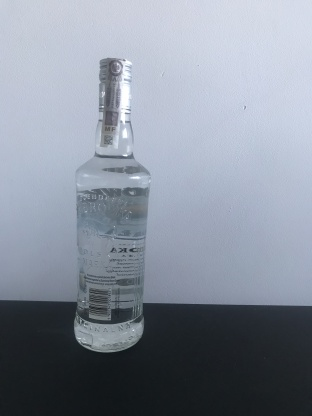nakretka: (95, 54, 135, 116)
